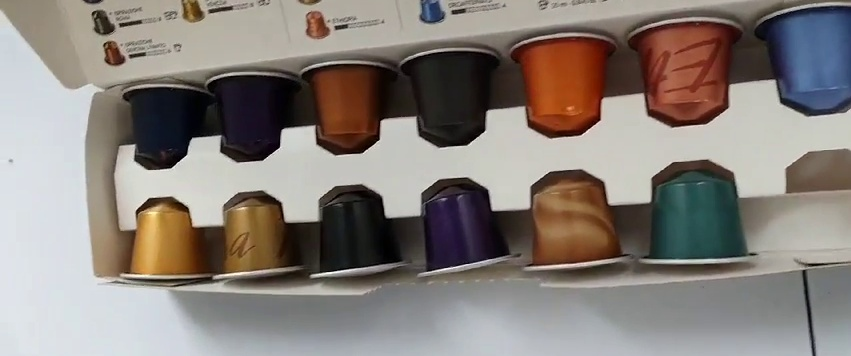capsule_1: (121, 82, 212, 168)
capsule_10: (309, 186, 413, 282)
capsule_11: (411, 178, 524, 273)
capsule_12: (526, 173, 635, 273)
capsule_13: (642, 171, 760, 266)
capsule_2: (207, 71, 301, 161)
capsule_3: (297, 58, 398, 153)
capsule_4: (398, 48, 504, 141)
capsule_5: (505, 29, 624, 129)
capsule_6: (626, 15, 748, 126)
capsule_7: (755, 5, 851, 115)
capsule_8: (114, 197, 214, 286)
capsule_9: (210, 192, 308, 280)
